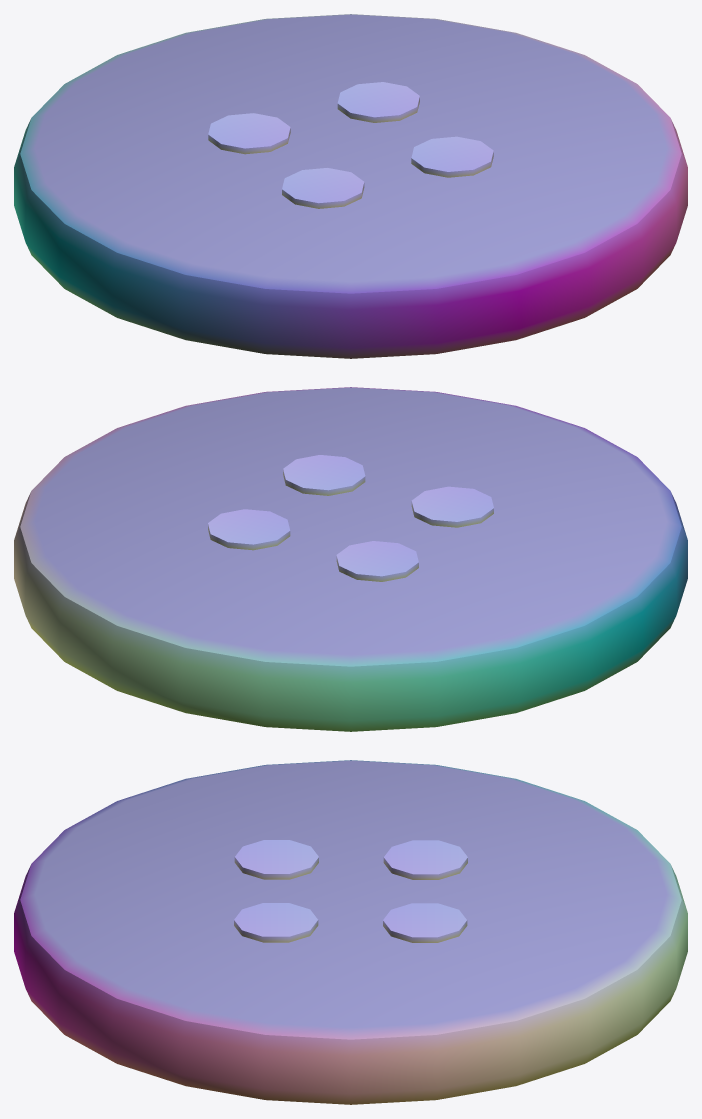
The model's file is env_deco_button.glb.
The picture shows the model from 3 angles, top to bottom: view 1: azimuth 30°, elevation 25°; view 2: azimuth 150°, elevation 25°; view 3: azimuth 270°, elevation 25°; orthographic projection.
Parts seen in each view (by area): view 1: env_deco_button_mesh; view 2: env_deco_button_mesh; view 3: env_deco_button_mesh.
Boxes of the visible parts, x1,y1,x2,y2 form: env_deco_button_mesh: [14, 14, 687, 358]; env_deco_button_mesh: [14, 387, 687, 731]; env_deco_button_mesh: [14, 760, 687, 1104].
Bounding box in the file's own units: 0.32 × 0.043 × 0.32.
